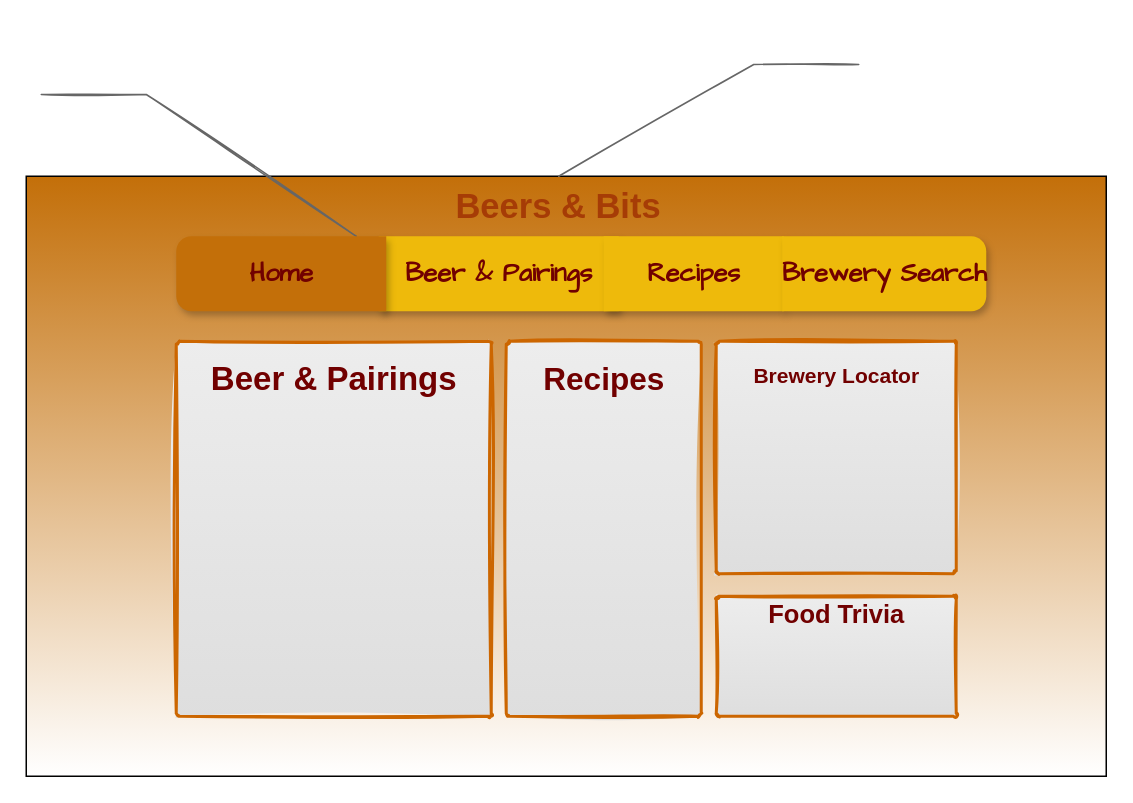
Some shapes in this 1133 by 803 pixel diagram are drawn without their labels. The centre of each missing label's shape, as x and y in pixels:
"Montserrat Subrayada font color: #a63c06" belongs at point (708, 100).
"text: Architect's Daugther Nav bar: background color:#c36f09 font color:#710000" belongs at point (198, 145).
